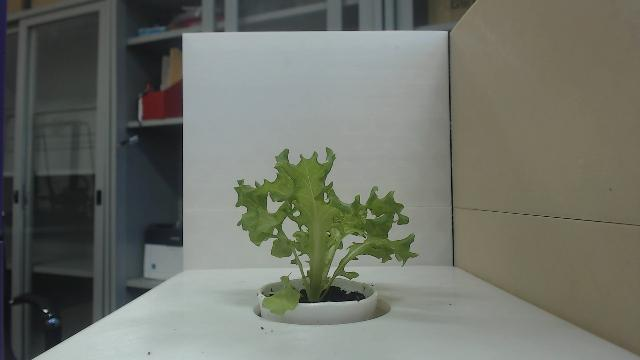Vegetative Stage: (232, 146, 420, 318)
